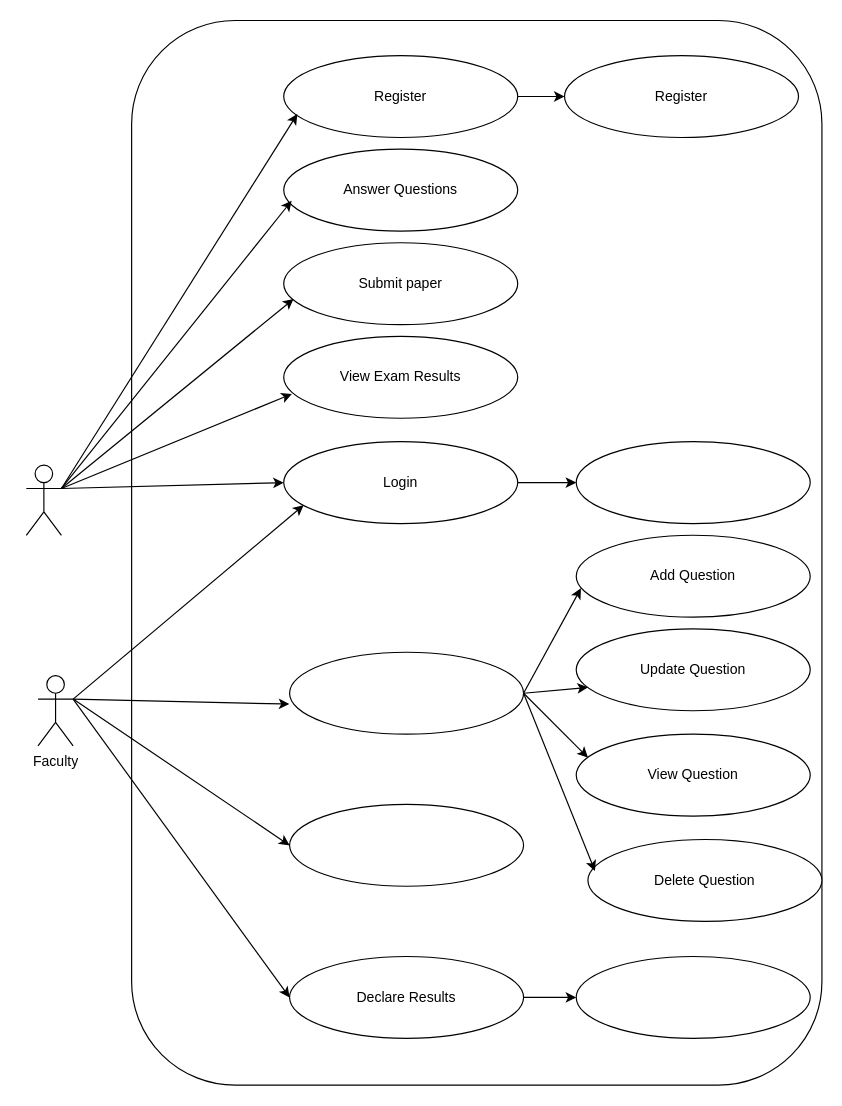
The diagram is 842 pixels wide and 1106 high, and some of its shapes have lost their labels. The centre of each missing label's shape, as x and y in pixels:
"Authenticate" belongs at [692,482].
"Email Results" belongs at [692,996].
"Review Students Application" belongs at [406,844].
"Set Question Paper" belongs at [406,692].
"Student" belongs at [43,499].
